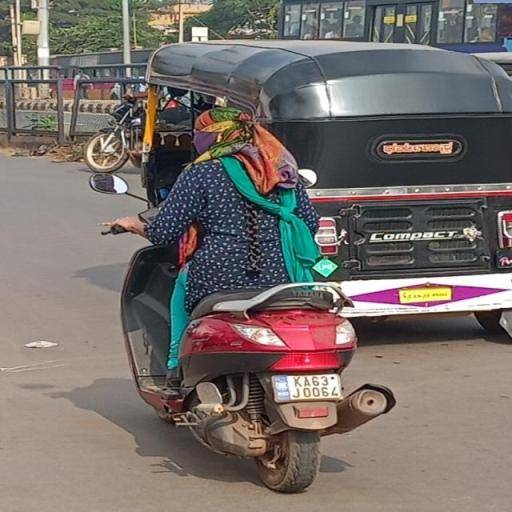bike: (88, 106, 404, 496)
numberplate: (274, 372, 344, 402)
withouthelmet: (195, 110, 250, 154)
